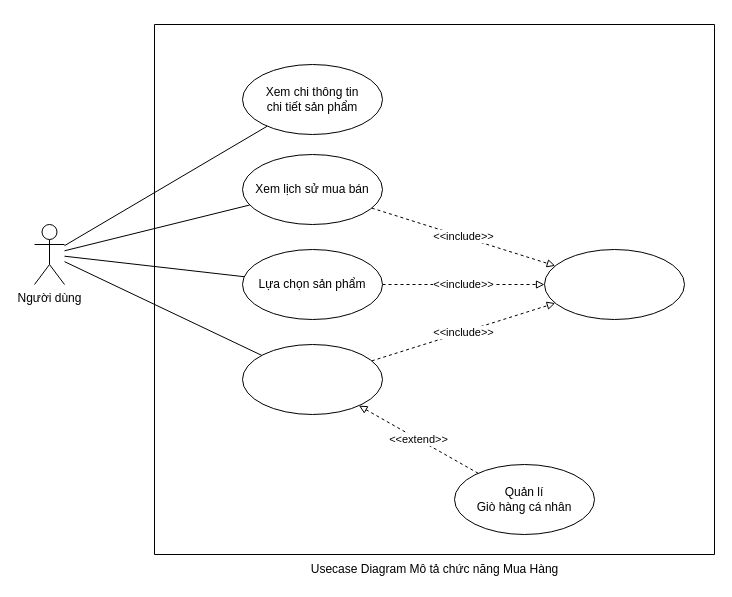
This 732x597 diagram has some shape labels left out. The shapes that lost their labels are listed below. From the top down, each one's centre as x and y in pixels, then its label:
point (614, 284): Đăng nhập
point (312, 379): Truy cập Giỏ hàng cá nhân
